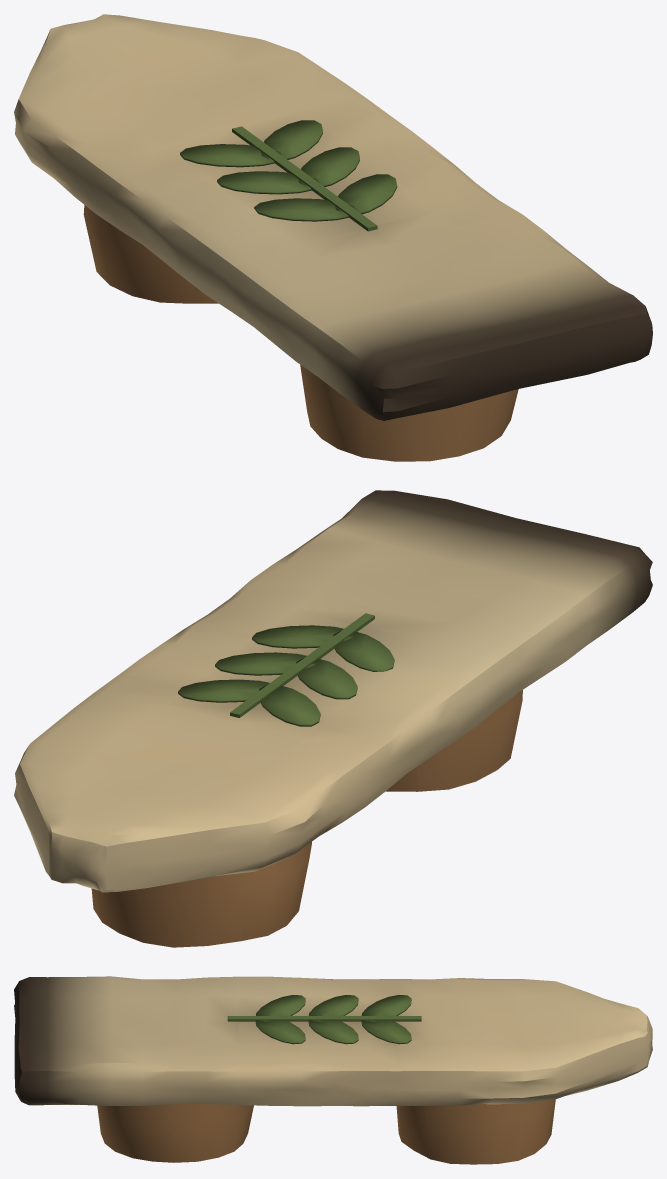
Rendered from mire_plant_label.glb.
The picture shows the model from 3 angles, top to bottom: view 1: azimuth 30°, elevation 25°; view 2: azimuth 150°, elevation 25°; view 3: azimuth 270°, elevation 25°; orthographic projection. The views are drawn at different scales.
Visible parts, largest first — view 1: mire_plant_label; view 2: mire_plant_label; view 3: mire_plant_label.
Part boxes in pixels (box(x1,y1,x2,y2)): mire_plant_label: box(14, 14, 652, 461); mire_plant_label: box(14, 490, 652, 947); mire_plant_label: box(14, 976, 652, 1164).
Size of the model in its own units: 2.65 by 1.47 by 7.24.
